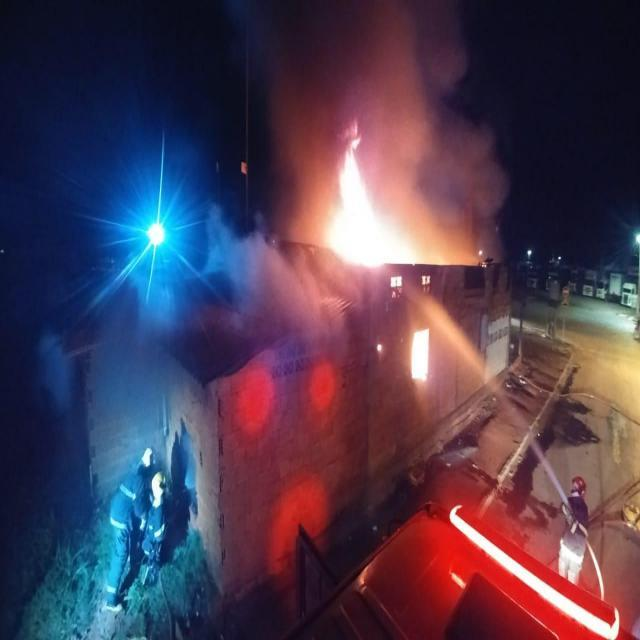Fire: (323, 150, 426, 270)
